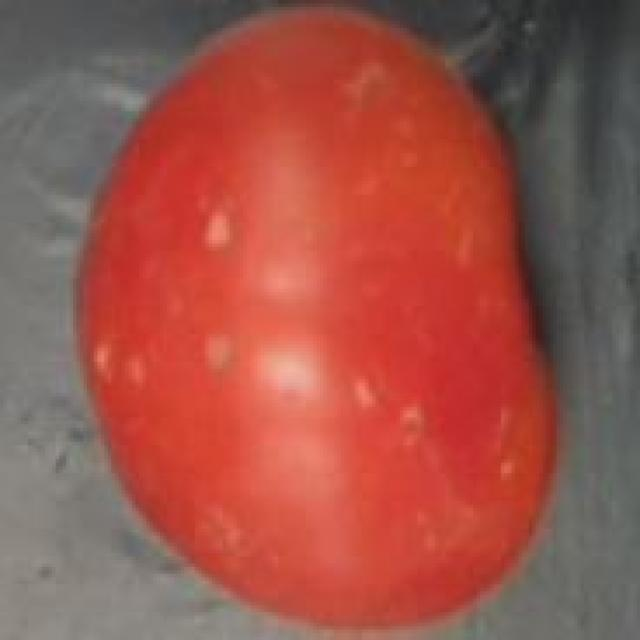overripe tomato: (69, 5, 557, 626)
